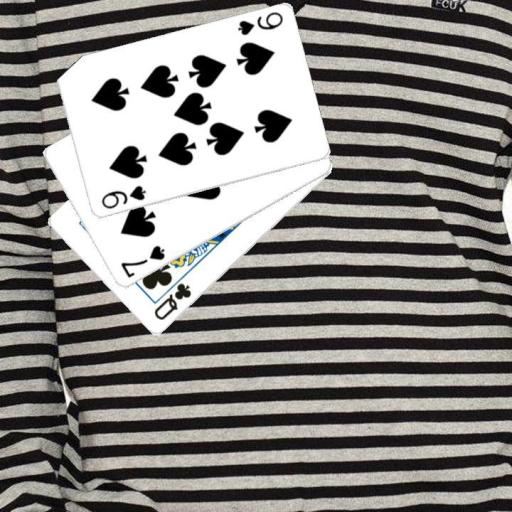7S: (118, 243, 167, 280)
9S: (235, 9, 285, 38), (98, 183, 148, 210)
QC: (151, 280, 193, 322)
